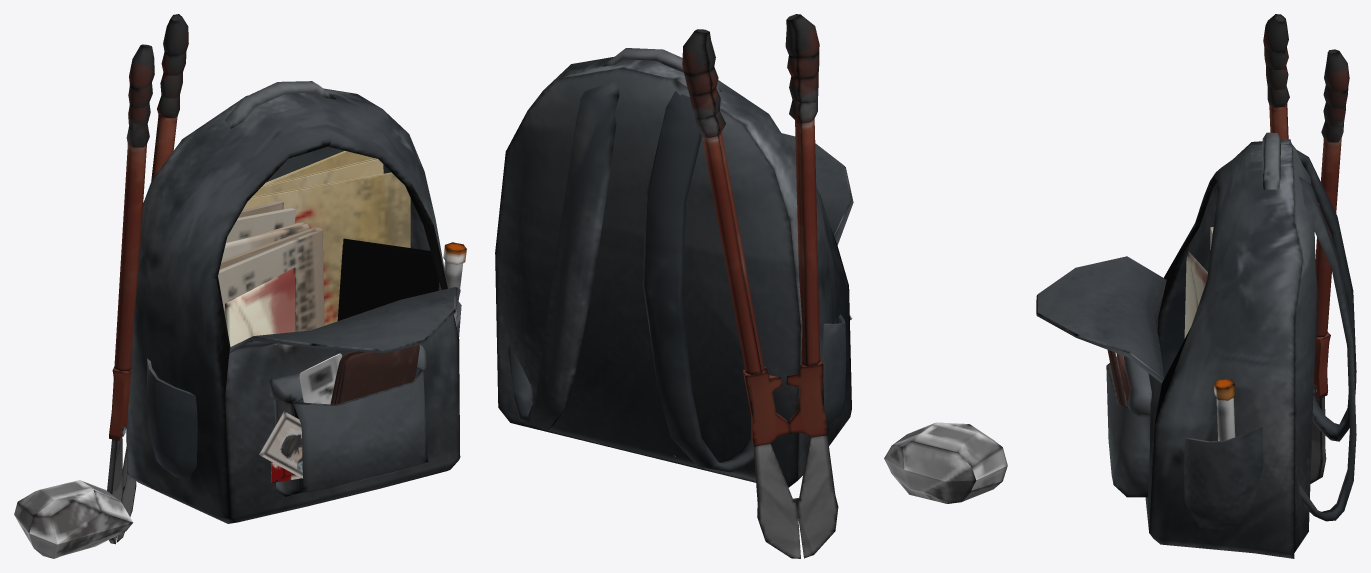
The model's file is Inventory_Asset 1.fbx.
3 renders of one model, left to right at view 1: azimuth 30°, elevation 25°; view 2: azimuth 150°, elevation 25°; view 3: azimuth 270°, elevation 25°, orthographic. The views are drawn at different scales.
Parts seen in each view (by area): view 1: Inventory, InventoryCutters, InventoryFile, InventoryStone, InventoryNewspaper, InventoryMap, InventoryEnvelope, InventoryWallet, InventoryPolaroid, InventoryFile.002, InventoryNewspaper.002, InventoryKeycard (+3 smaller); view 2: Inventory, InventoryCutters, InventoryStone; view 3: Inventory, InventoryCutters, InventoryEnvelope, InventoryTestTube, InventoryWallet.
Part boxes in pixels (x1,y1,x2,y2): Inventory: (126,81,461,523); InventoryCutters: (107,14,188,544); InventoryFile: (243,172,410,325); InventoryStone: (14,480,133,558); InventoryNewspaper: (218,227,324,331); InventoryMap: (337,238,439,320); InventoryEnvelope: (225,267,295,346); InventoryWallet: (330,345,419,404); InventoryPolaroid: (259,411,302,478); InventoryFile.002: (252,158,383,196); InventoryNewspaper.002: (226,201,296,242); InventoryKeycard: (299,353,342,404); Inventory: (495,48,853,487); InventoryCutters: (682,14,838,558); InventoryStone: (884,422,1007,503); Inventory: (1036,132,1356,558); InventoryCutters: (1263,14,1349,483); InventoryEnvelope: (1184,250,1207,338); InventoryTestTube: (1214,378,1235,440); InventoryWallet: (1107,350,1131,406).
Bounding box in the file's own units: 55.5 × 36.02 × 59.28.
